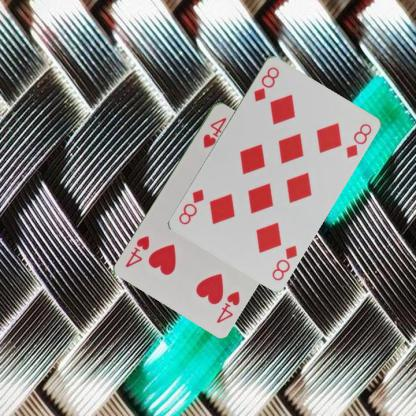4h: (213, 288, 241, 324), (200, 114, 228, 149)
8d: (251, 63, 281, 103), (268, 242, 298, 282)
